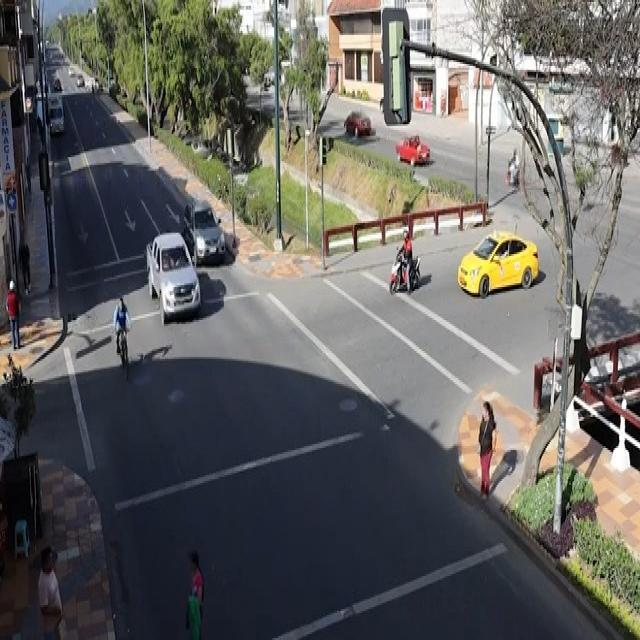CMT: (140, 234, 207, 318)
